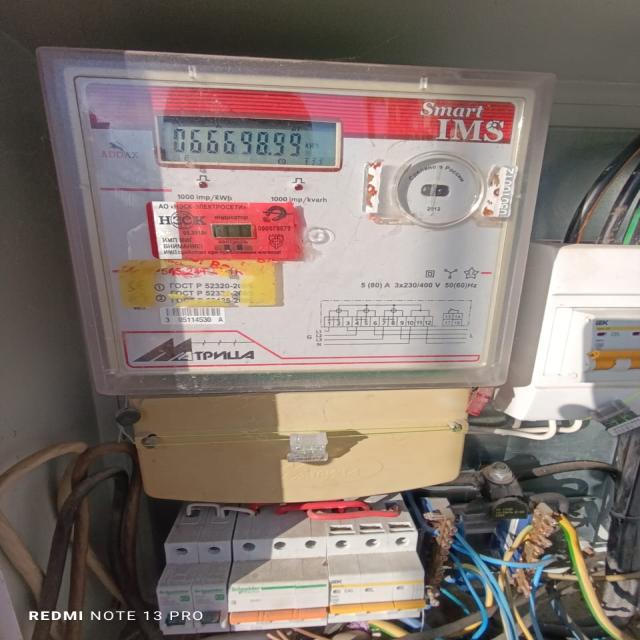Display: (155, 112, 341, 171)
meter_matrica: (57, 62, 536, 389)
meter_number: (157, 305, 229, 326)
seal_elso: (282, 428, 334, 468)
seal_imp: (147, 202, 303, 263)
